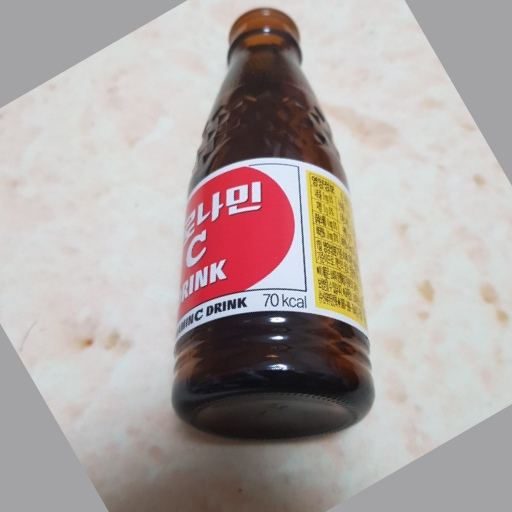Glass_3: (165, 8, 376, 438)
